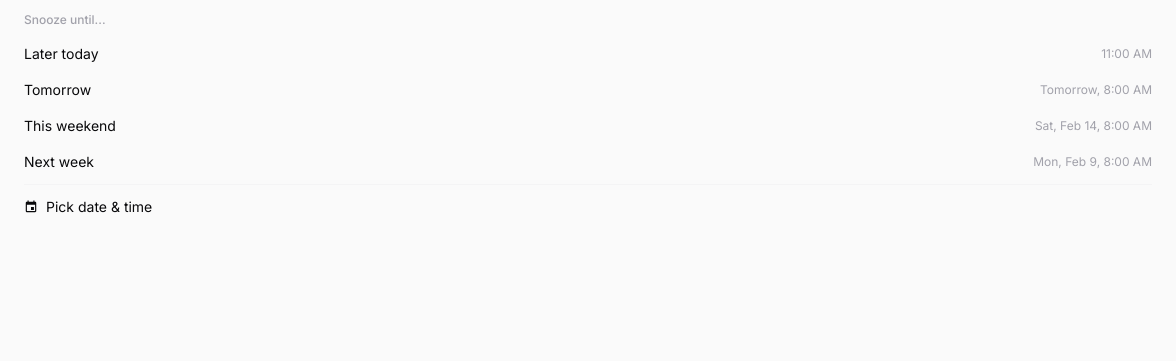
Scenario: SnoozePicker › shows custom date inputs when clicking Pick date & time
Click the menu item "Pick date & time" at (99, 206), box [12,189,1164,225]
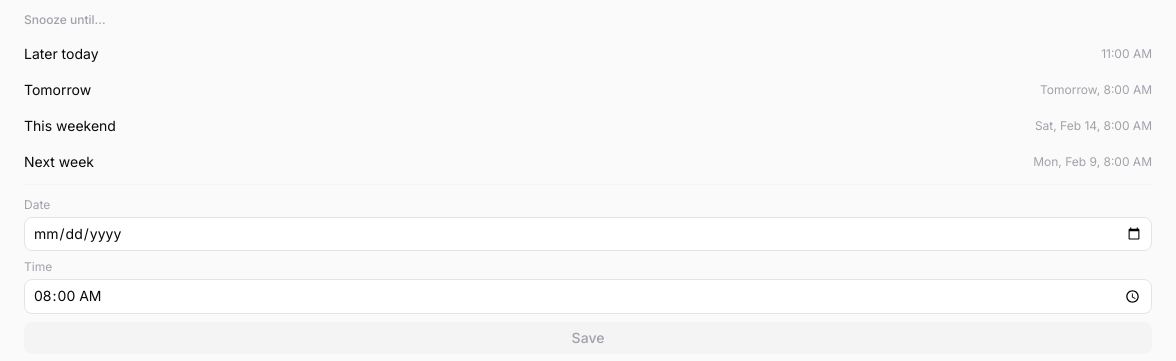
Result: the date field labelled "Date" is shown at [24,217,1152,251]
Result: the time field labelled "Time" is shown at [24,279,1152,314]
